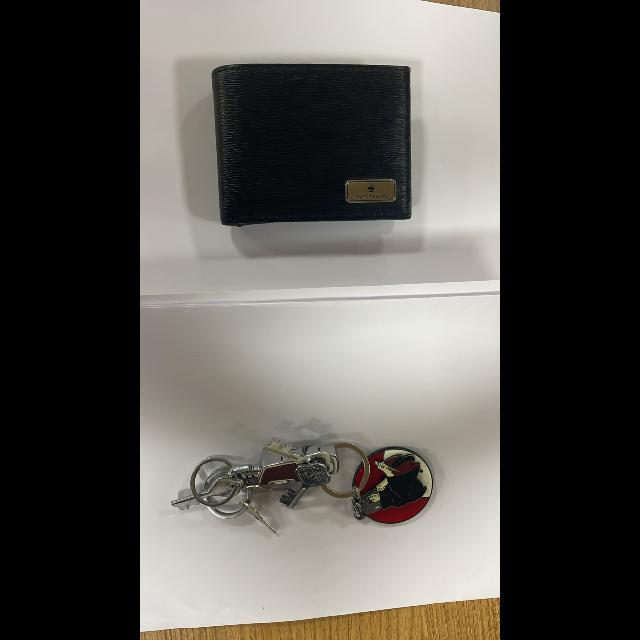keys: (153, 431, 453, 551)
wallet: (190, 48, 450, 258)
